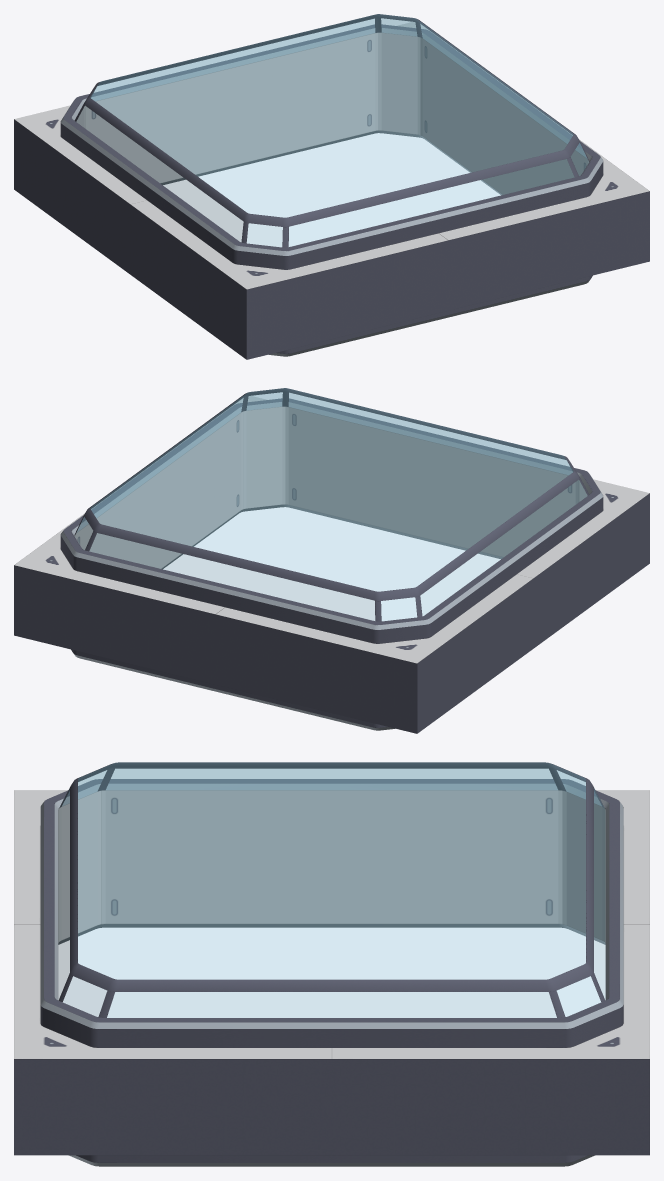
File: Roof_04.FBX
3 views of the same model, one above another, from view 1: azimuth 30°, elevation 25°; view 2: azimuth 150°, elevation 25°; view 3: azimuth 270°, elevation 25° (orthographic). The views are drawn at different scales.
Parts seen in each view (by area): view 1: Roof_04; view 2: Roof_04; view 3: Roof_04.
Boxes of the visible parts, left/top/right/bottom form: Roof_04: left=14, top=14, right=649, bottom=359; Roof_04: left=14, top=388, right=649, bottom=733; Roof_04: left=14, top=762, right=649, bottom=1166.
Bounding box in the file's own units: 6 × 1.81 × 6.
4 materials, 3 textured.
